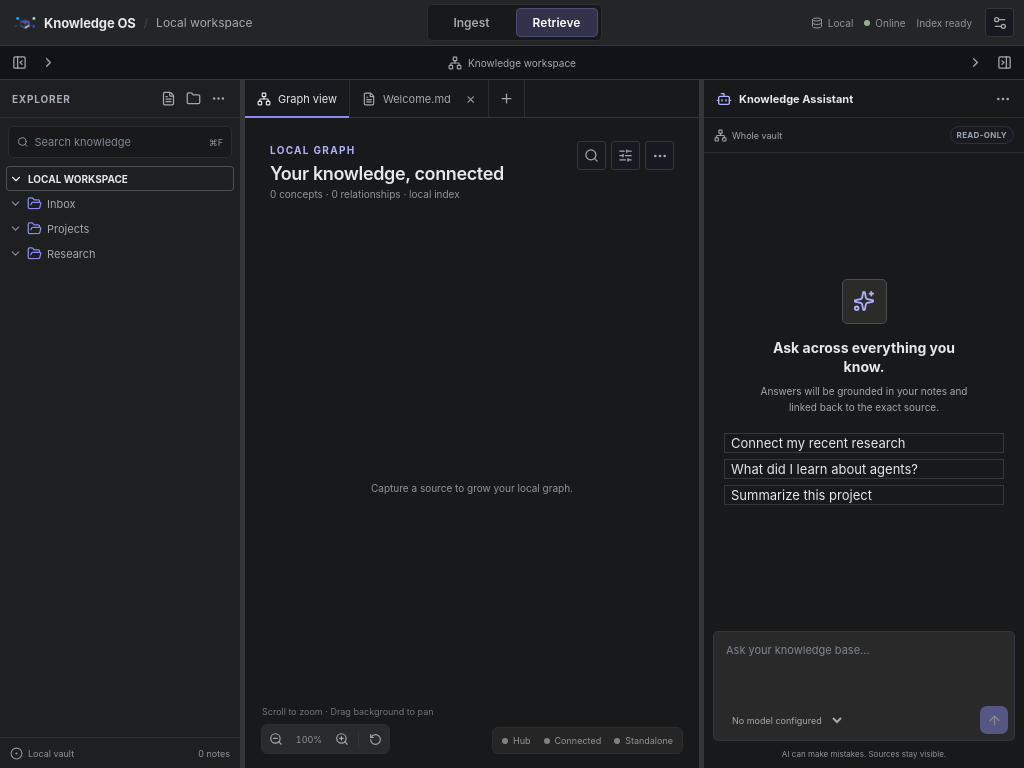
Test: application shell › creates a named note in the vault and opens it
Step 1. Click the button named "New note" → {"x": 168, "y": 98}, box [156,86,181,111]
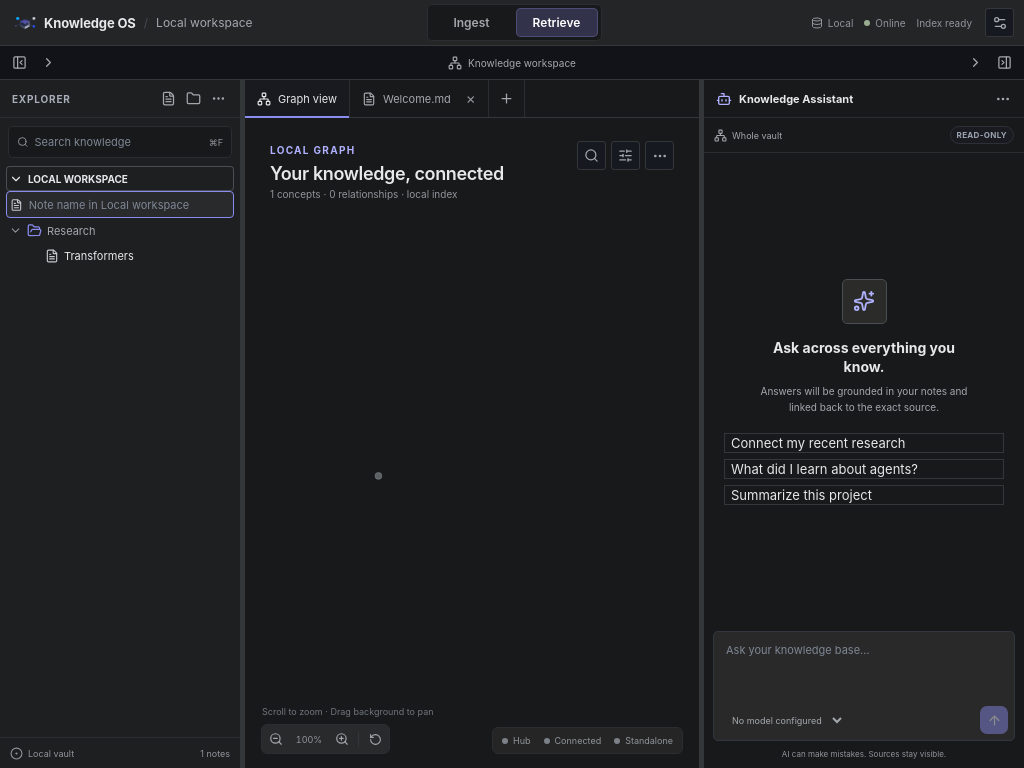
Step 2. Type "Reading notes" into the field named "New note name" → {"x": 128, "y": 204}, box [29,193,228,216]
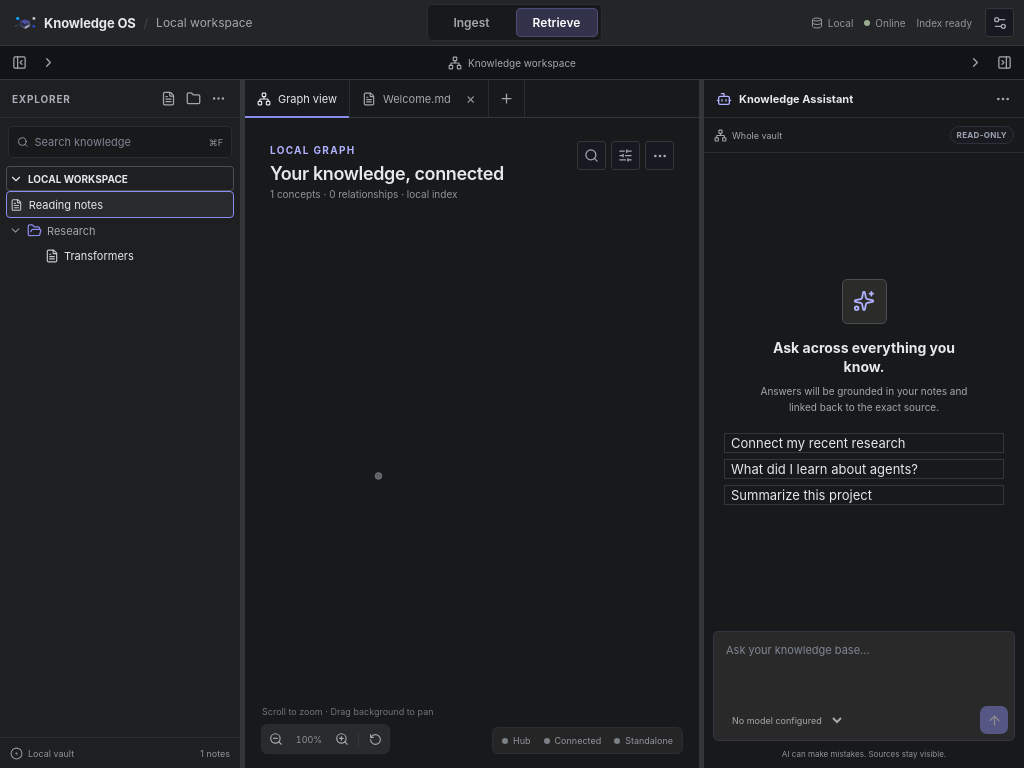
Step 3. Press Enter in the field named "New note name", box [29,193,228,216]
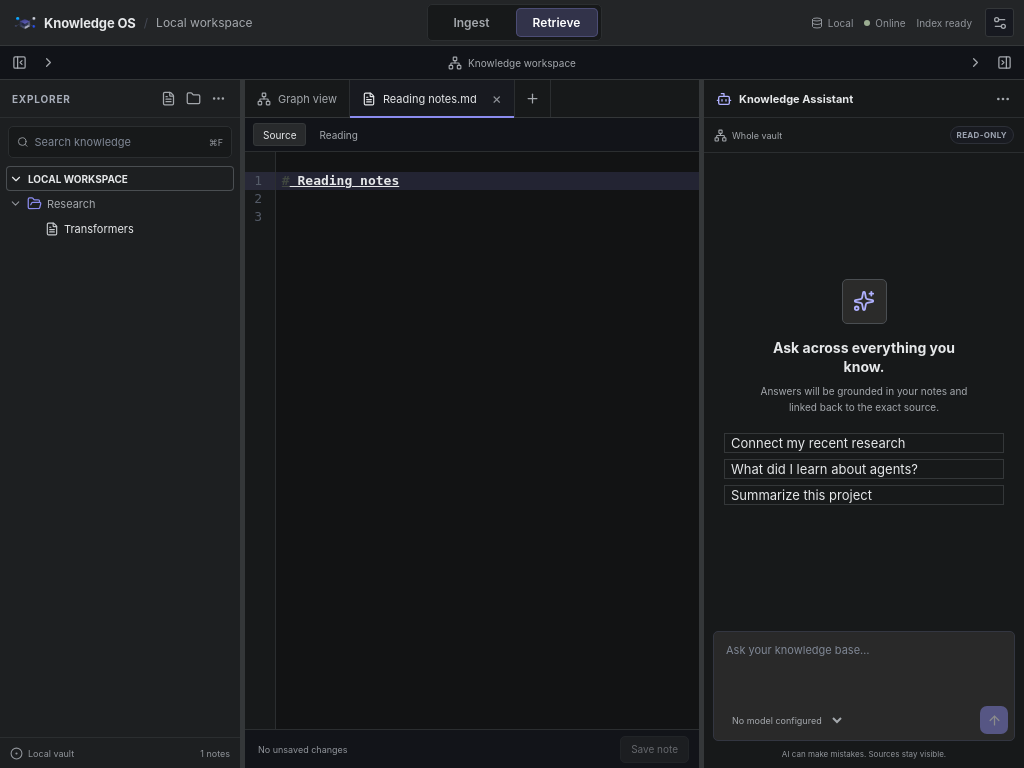
Check: the tab "Reading notes.md ×" is shown, box [350,80,514,117]
